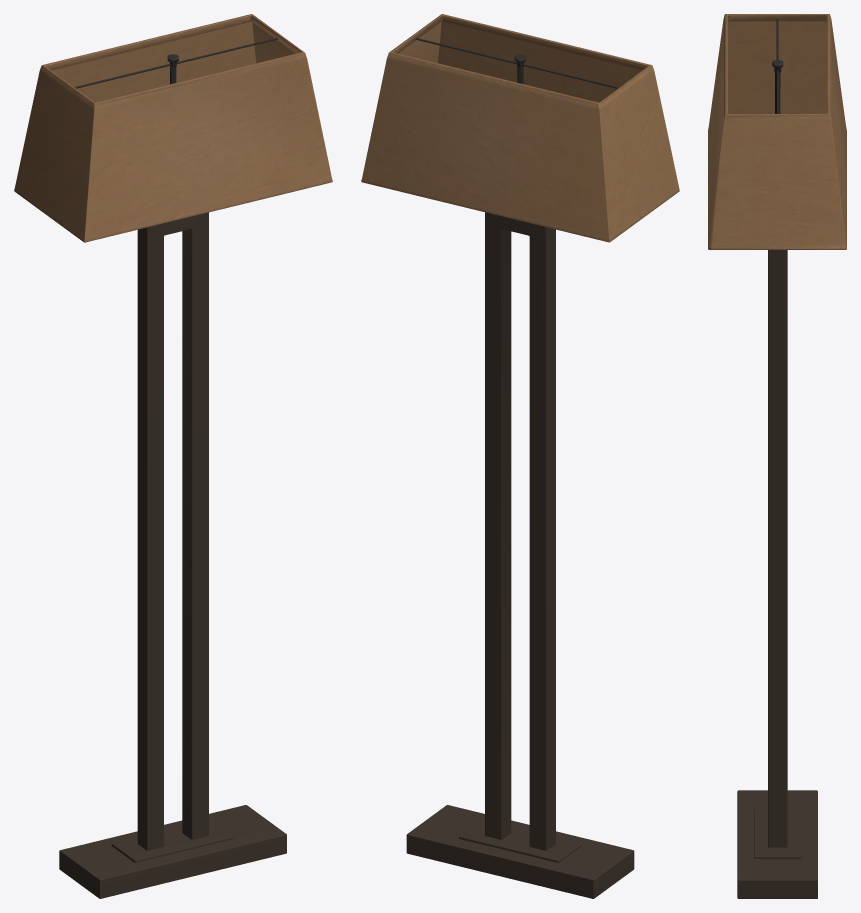
The model's file is B073751DMK.glb.
The picture shows the model from 3 angles, left to right: view 1: azimuth 30°, elevation 25°; view 2: azimuth 150°, elevation 25°; view 3: azimuth 270°, elevation 25°; orthographic projection.
Visible parts, largest first — view 1: RootNode; view 2: RootNode; view 3: RootNode.
Part boxes in pixels (x1,y1,x2,y2): RootNode: (14,14,332,898); RootNode: (361,14,679,898); RootNode: (708,14,846,898).
Bounding box in the file's own units: 0.4748 × 1.47 × 0.2332.
1 material, 1 textured.
